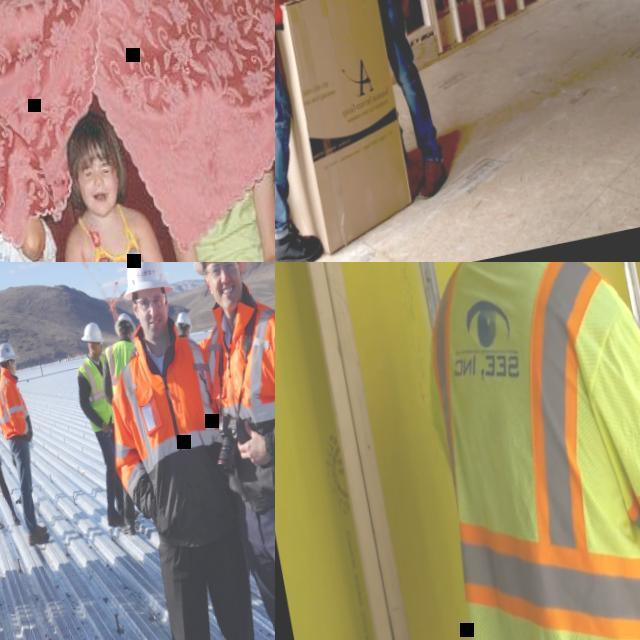helmet: (114, 262, 177, 304), (184, 262, 252, 281), (79, 321, 105, 349), (113, 311, 138, 337), (0, 339, 19, 366), (176, 312, 197, 334)
vest: (398, 262, 640, 640), (90, 315, 246, 558), (187, 268, 275, 498), (76, 352, 120, 433), (0, 365, 37, 449), (99, 339, 146, 397)
